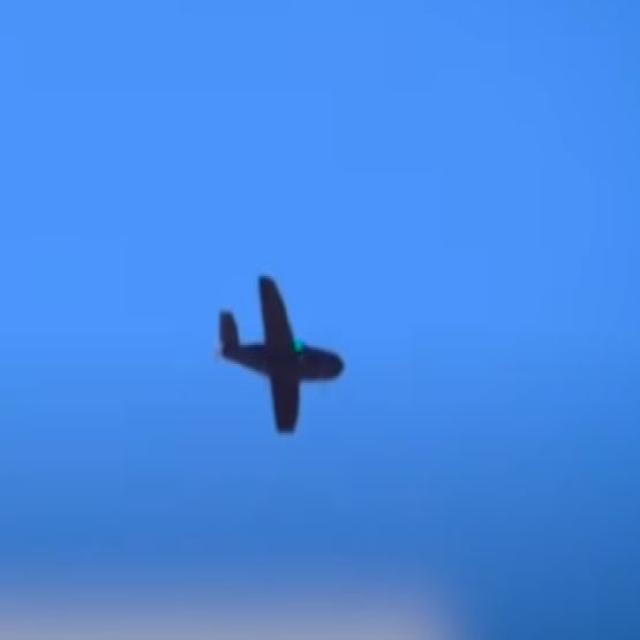iha: (217, 273, 347, 437)
